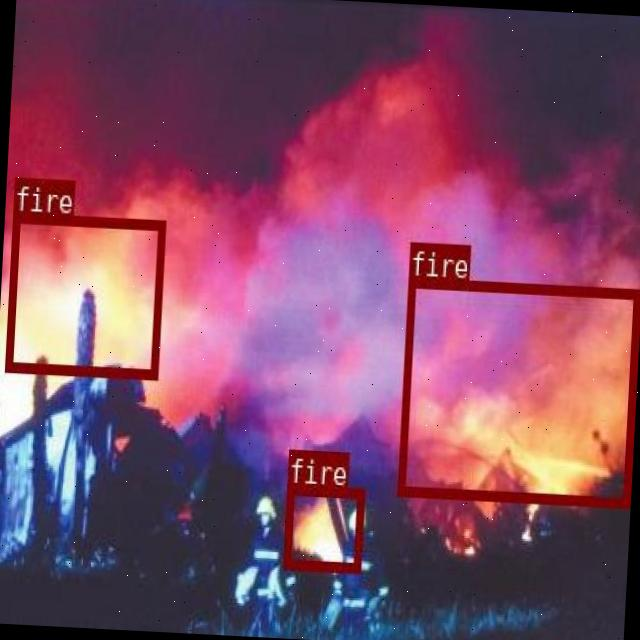fire: (396, 276, 639, 506), (4, 210, 165, 377), (282, 484, 363, 572)
